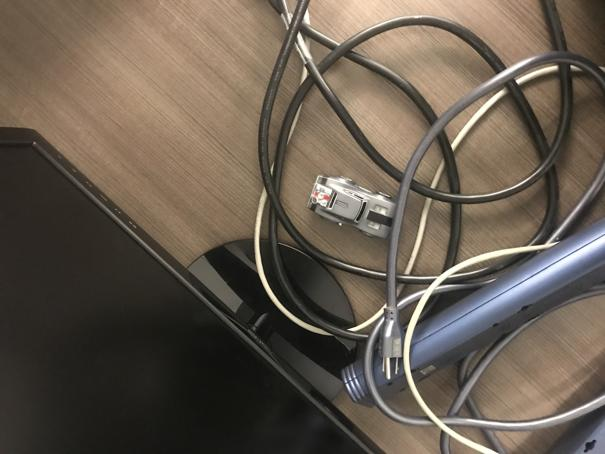Charger: (307, 174, 397, 242)
